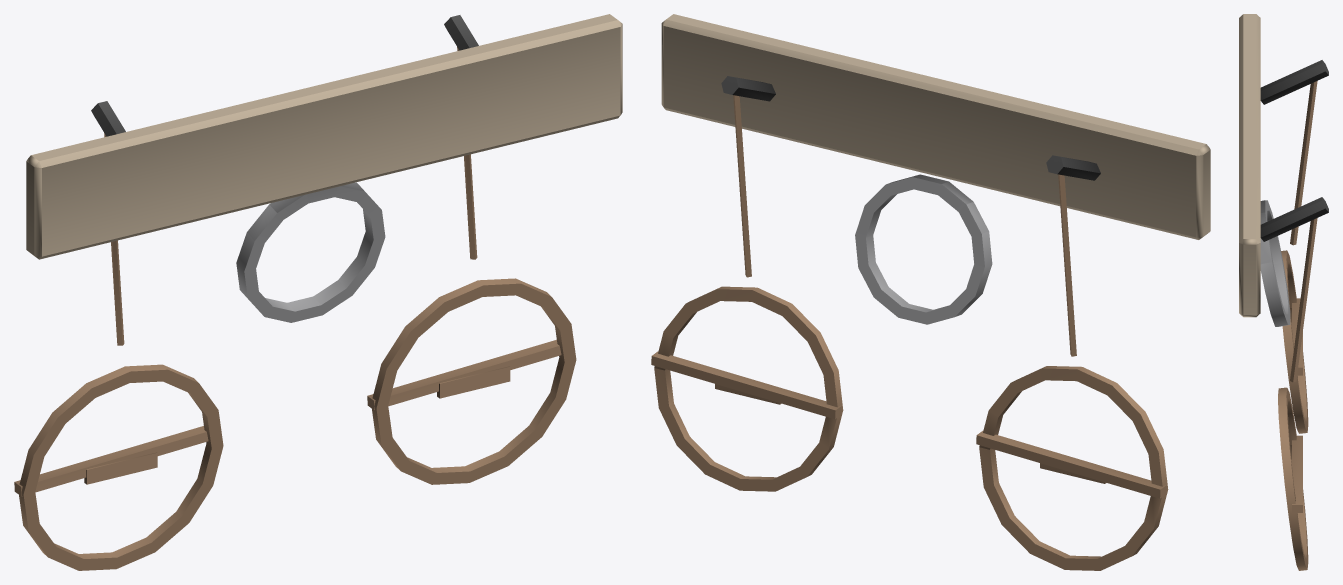
The model's file is traps_hook.glb.
The picture shows the model from 3 angles, left to right: view 1: azimuth 30°, elevation 25°; view 2: azimuth 150°, elevation 25°; view 3: azimuth 270°, elevation 25°; orthographic projection. The views are drawn at different scales.
Visible parts, largest first — view 1: static; view 2: static; view 3: static.
Part boxes in pixels (left/top/right/bottom): static: left=14, top=14, right=622, bottom=570; static: left=651, top=14, right=1210, bottom=570; static: left=1239, top=14, right=1328, bottom=570.
Bounding box in the file's own units: 0.5 × 0.3749 × 0.0831.
